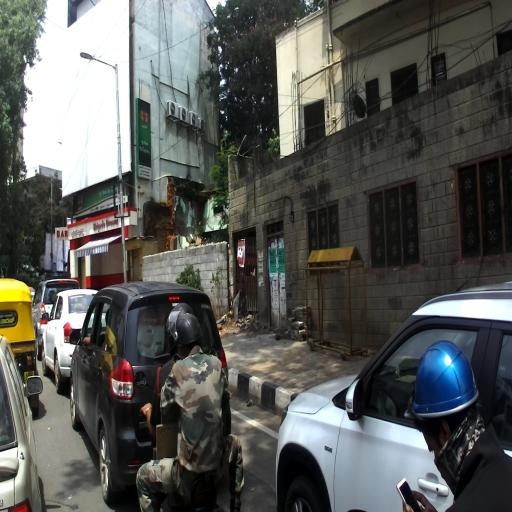street_light_0: (80, 53, 118, 71)
